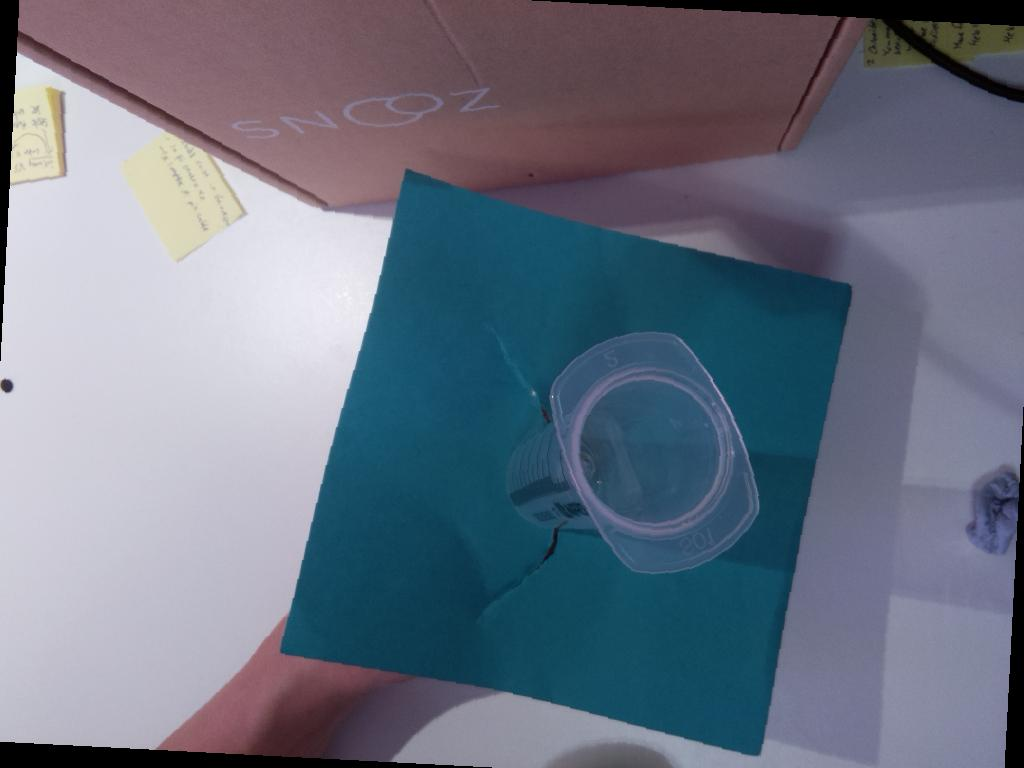clean: (549, 329, 764, 576)
